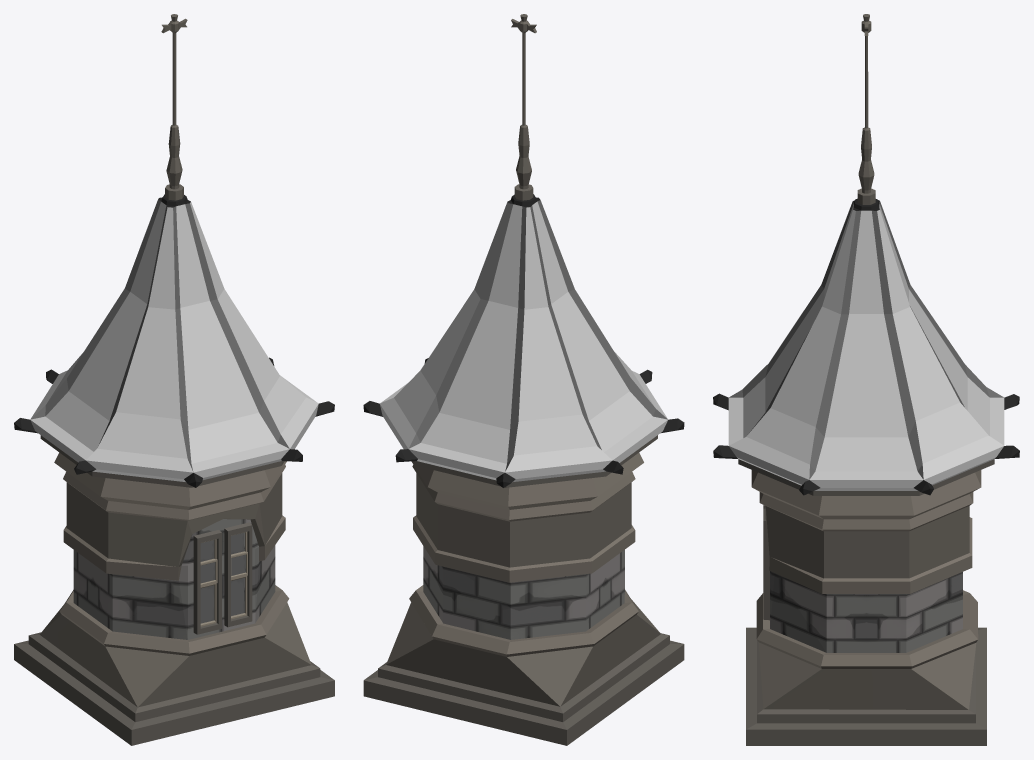
File: SM_Bld_Roof_Tower_01.fbx
The picture shows the model from 3 angles, left to right: view 1: azimuth 30°, elevation 25°; view 2: azimuth 150°, elevation 25°; view 3: azimuth 270°, elevation 25°; orthographic projection. The views are drawn at different scales.
Visible parts, largest first — view 1: SM_Bld_Roof_Tower_01; view 2: SM_Bld_Roof_Tower_01; view 3: SM_Bld_Roof_Tower_01.
Boxes of the visible parts, x1=… form: SM_Bld_Roof_Tower_01: x1=14, y1=14, x2=334, y2=745; SM_Bld_Roof_Tower_01: x1=363, y1=14, x2=684, y2=745; SM_Bld_Roof_Tower_01: x1=713, y1=14, x2=1019, y2=745.
Bounding box in the file's own units: 373 × 911 × 373.
